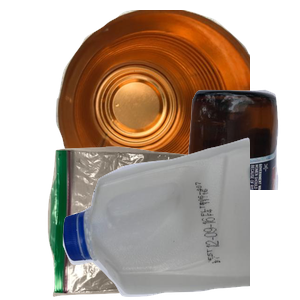glass: (87, 87, 300, 267)
metal: (53, 10, 293, 190)
plastic: (60, 135, 300, 300)
trash: (45, 144, 235, 300)
